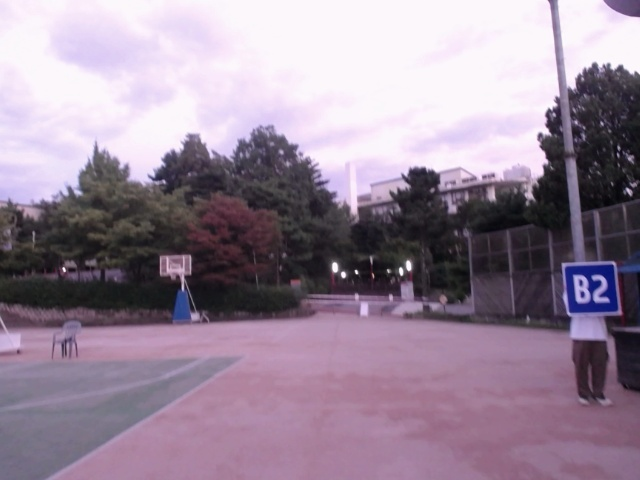delivery_b2: (562, 260, 624, 317)
